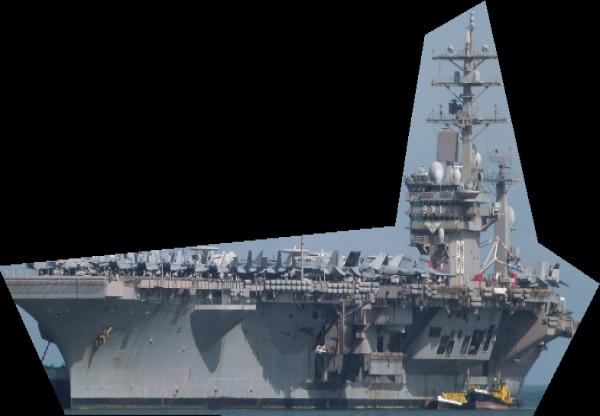Aircraft Carrier: (0, 0, 600, 416)
